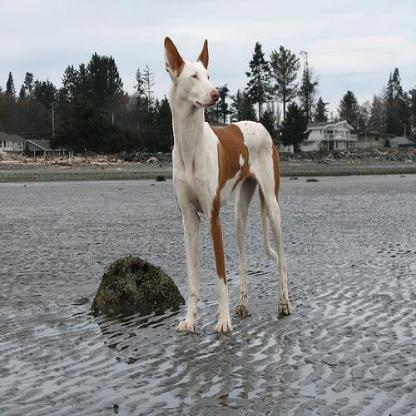dog: (152, 25, 300, 337)
